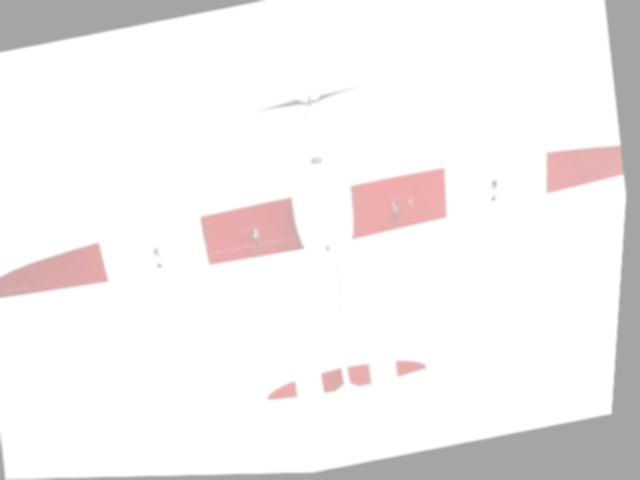uav: (0, 38, 637, 463)
